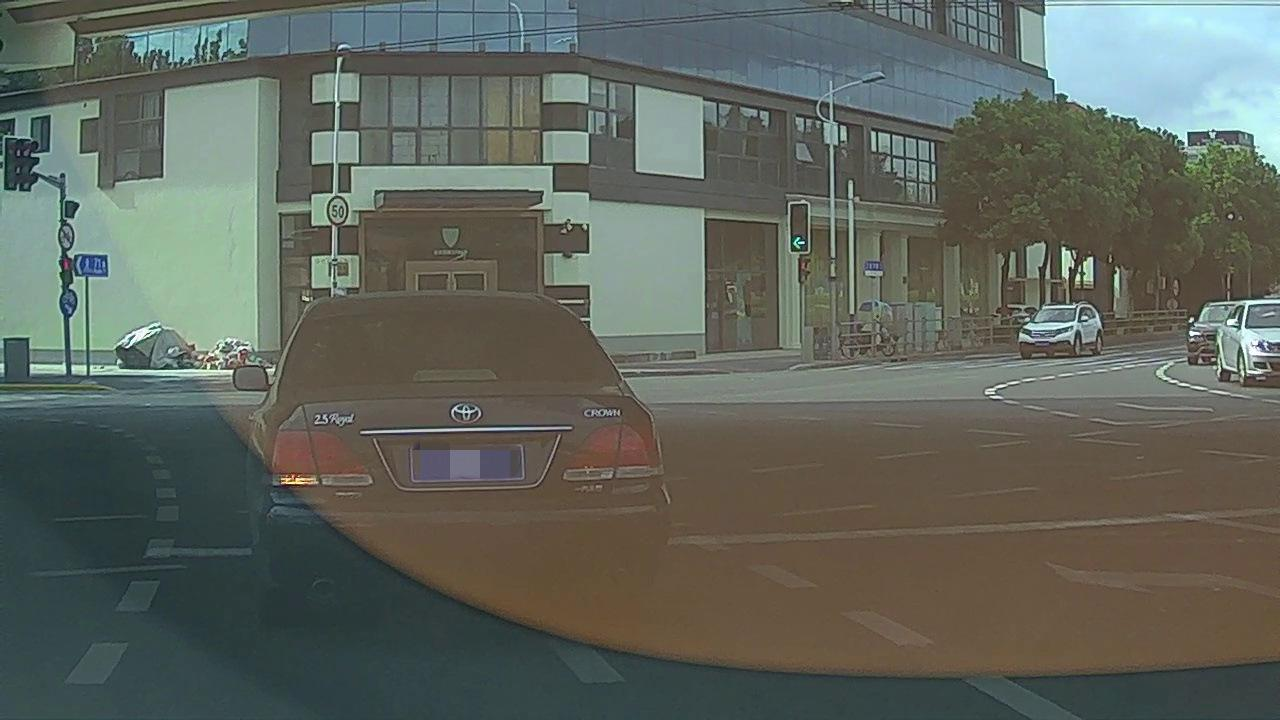traffic_light: (790, 203, 809, 253)
